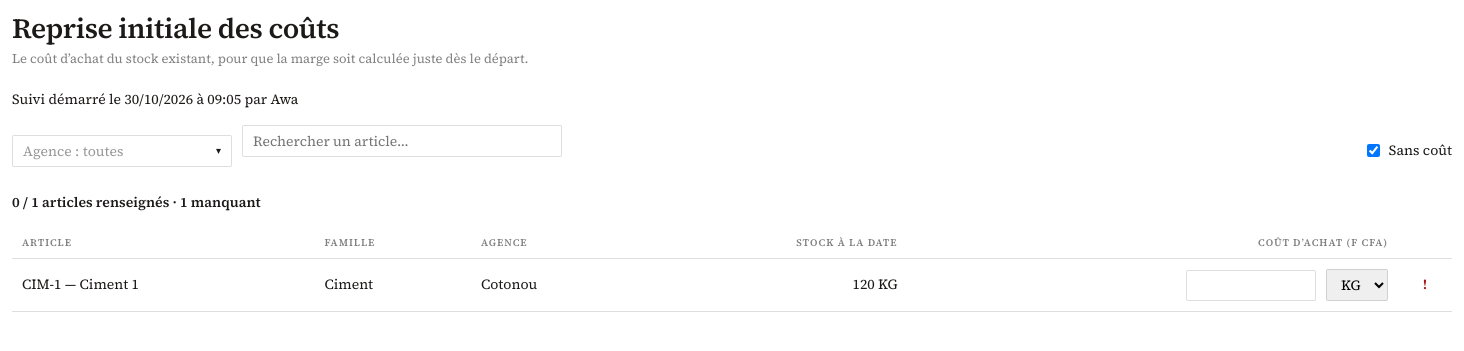
Test: InitialCostsComponent › packaging of the cost › shows a per-unit cost with its cents in the conversion
Type "80.5" into the number field with class "cost-input". click: (1251, 285)
box: [1186,270,1316,301]
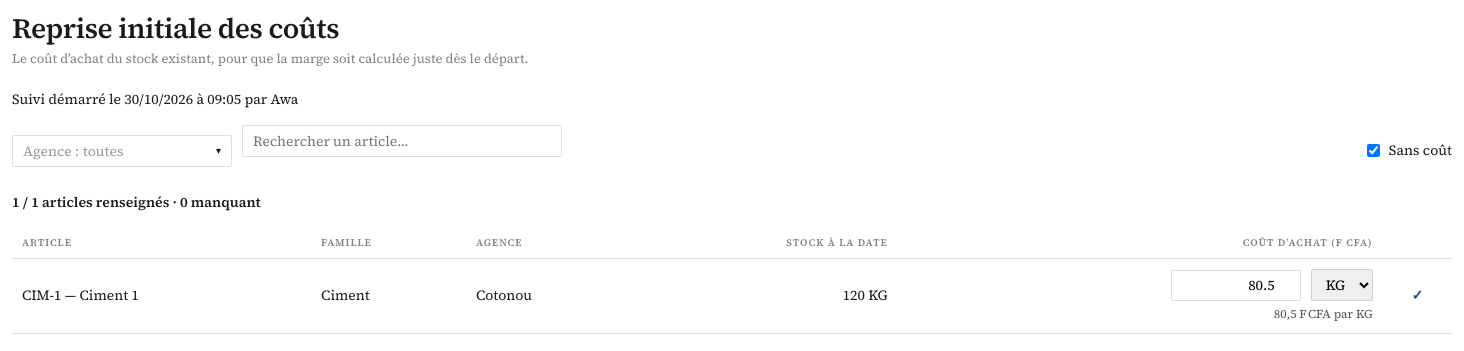
expect the text with class "conversion" shows "80,5": met, box [1274,306,1373,322]
